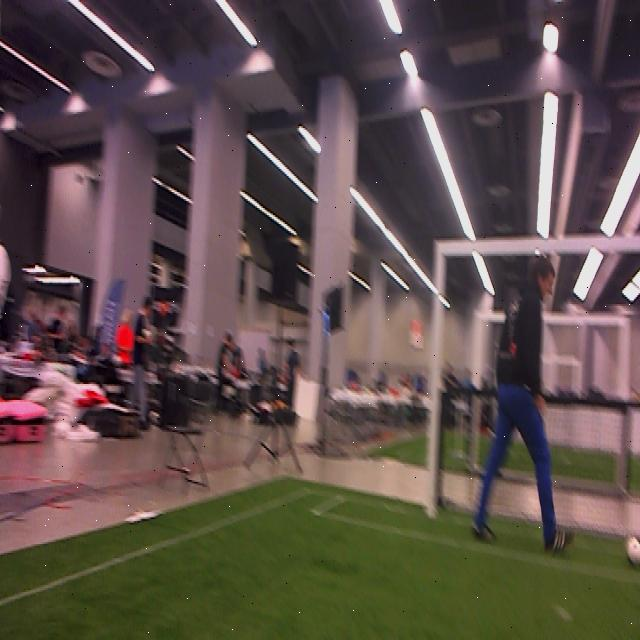ball: (623, 535, 640, 571)
goalpost: (427, 240, 446, 510)
